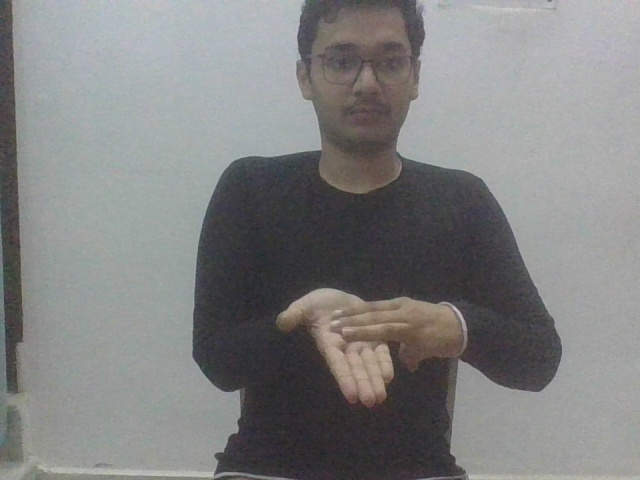M: (273, 283, 470, 410)
